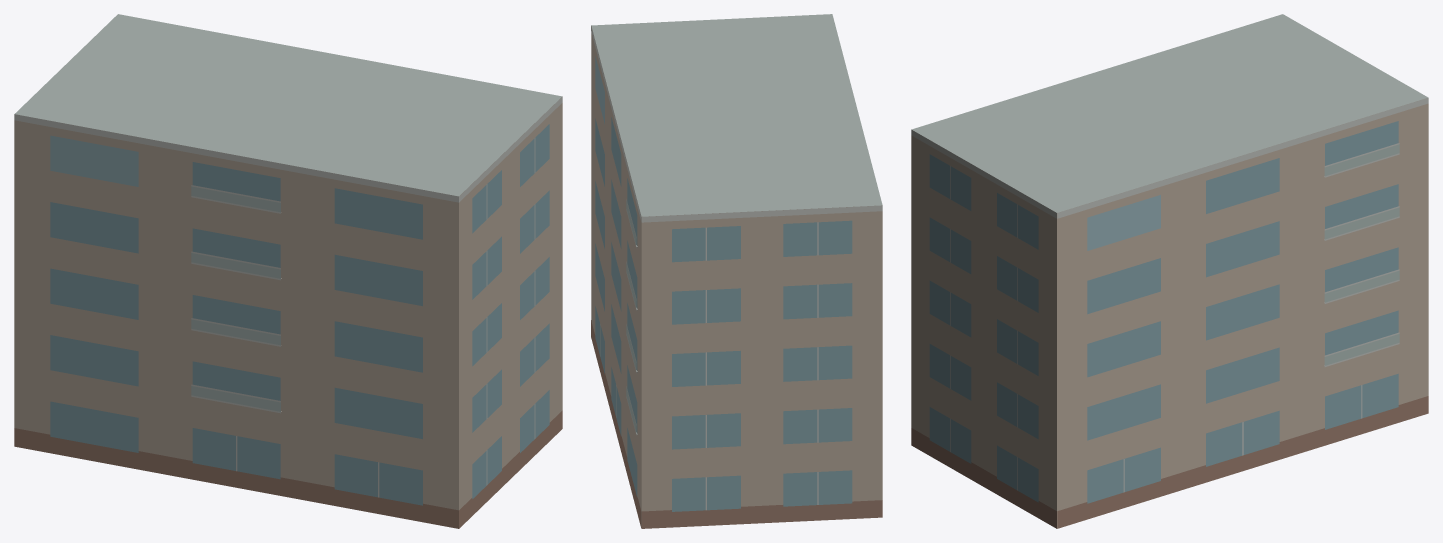
Rendered from survey-upis-33032337.glb.
3 views of the same model, side by side, from view 1: azimuth 30°, elevation 25°; view 2: azimuth 150°, elevation 25°; view 3: azimuth 270°, elevation 25° (orthographic). The views are drawn at different scales.
Visible parts, largest first — view 1: survey-upis-33032337.tmp; view 2: survey-upis-33032337.tmp; view 3: survey-upis-33032337.tmp.
Boxes of the visible parts, left/top/right/bottom form: survey-upis-33032337.tmp: left=14, top=14, right=562, bottom=528; survey-upis-33032337.tmp: left=591, top=14, right=882, bottom=528; survey-upis-33032337.tmp: left=911, top=14, right=1428, bottom=528.
Size of the model in its own units: 17.71 by 13.1 by 19.45.
